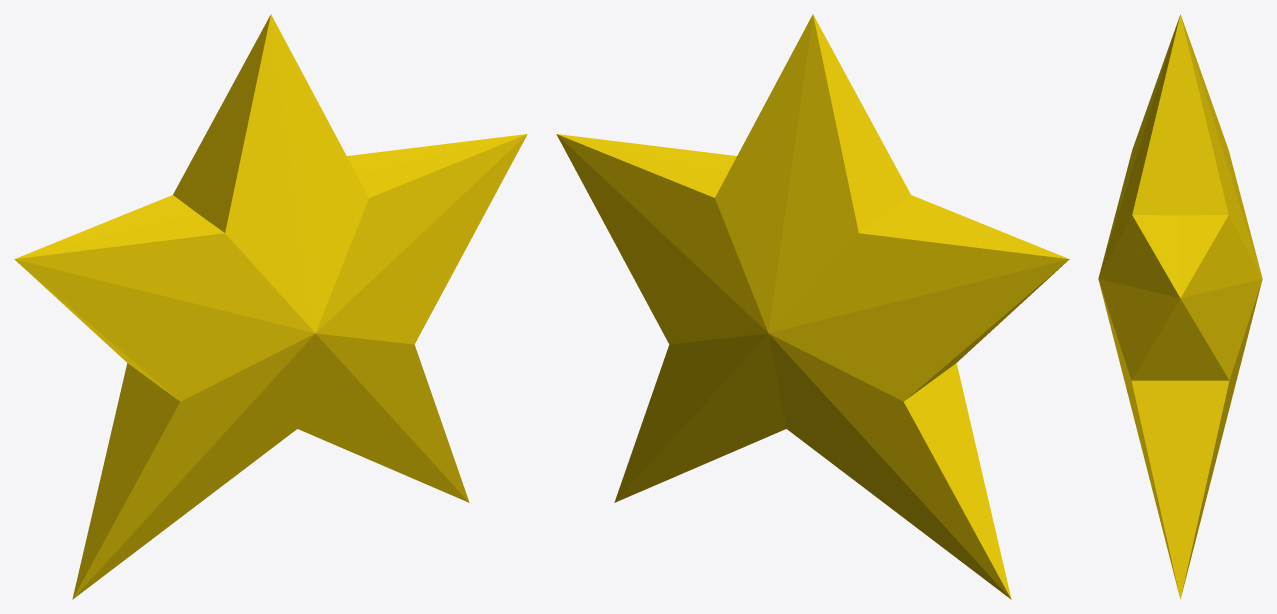
File: Star.fbx
3 renders of one model, left to right at view 1: azimuth 30°, elevation 25°; view 2: azimuth 150°, elevation 25°; view 3: azimuth 270°, elevation 25°, orthographic. The views are drawn at different scales.
Visible parts, largest first — view 1: Star; view 2: Star; view 3: Star.
Boxes of the visible parts, x1=… form: Star: x1=14, y1=14, x2=527, y2=599; Star: x1=556, y1=14, x2=1069, y2=599; Star: x1=1098, y1=14, x2=1262, y2=599.
Size of the model in its own units: 100 by 100 by 30.
